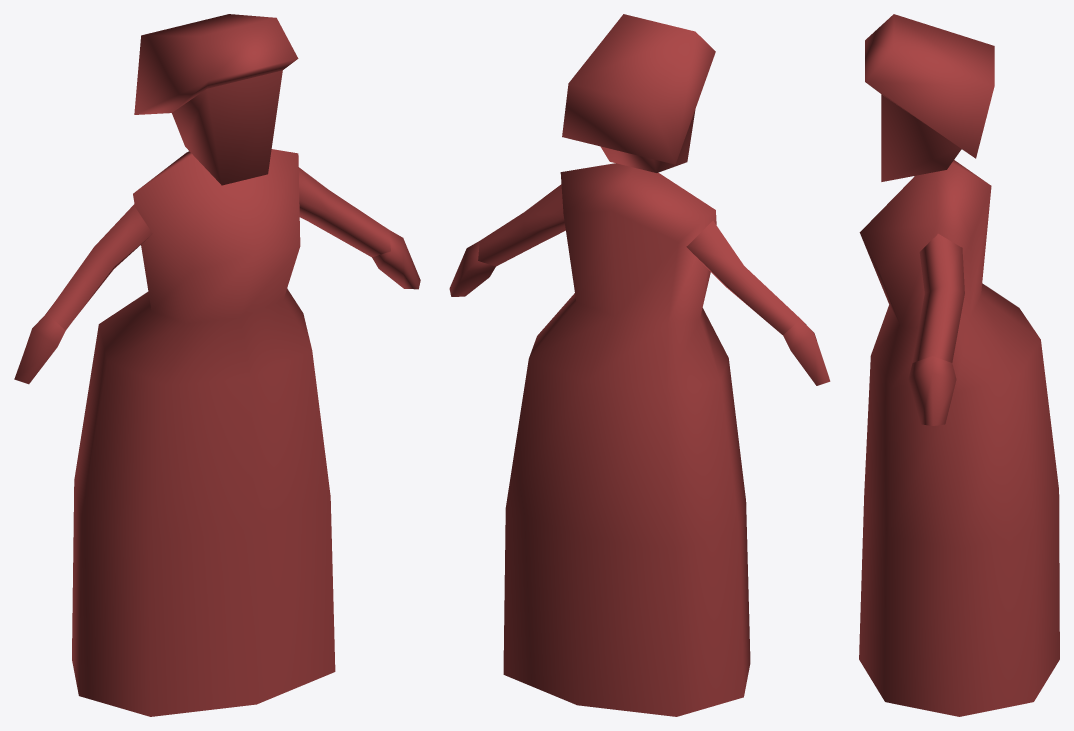
Rendered from figure_mtr_xlow.fbx.
3 renders of one model, left to right at view 1: azimuth 30°, elevation 25°; view 2: azimuth 150°, elevation 25°; view 3: azimuth 270°, elevation 25°, orthographic. The views are drawn at different scales.
Parts seen in each view (by area): view 1: FigureMtrXLow; view 2: FigureMtrXLow; view 3: FigureMtrXLow.
Boxes of the visible parts, bbox=[...] form: FigureMtrXLow: bbox=[14, 14, 420, 716]; FigureMtrXLow: bbox=[449, 14, 830, 716]; FigureMtrXLow: bbox=[859, 14, 1059, 716].
Size of the model in its own units: 63.02 by 98.34 by 28.53.
